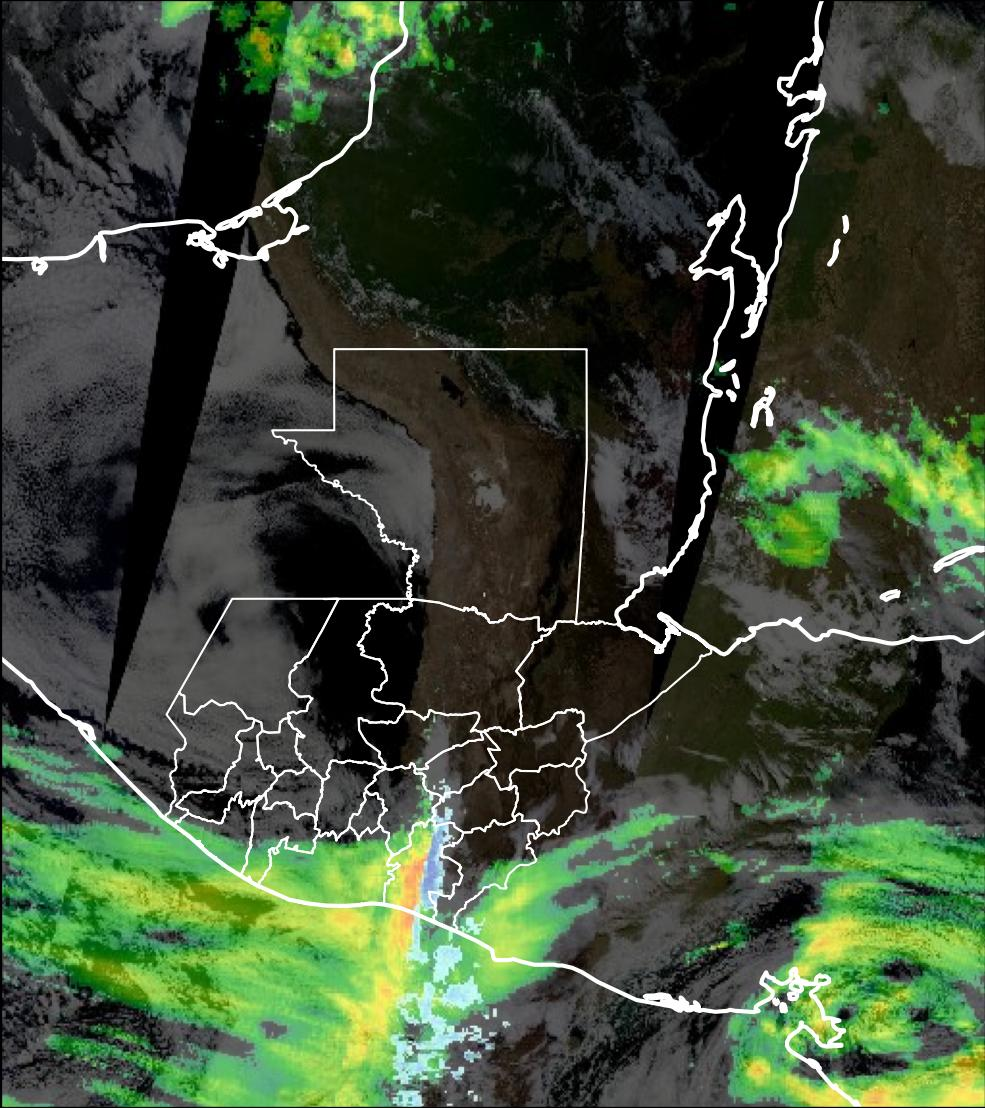precipitacion: (819, 1067, 944, 1107)
